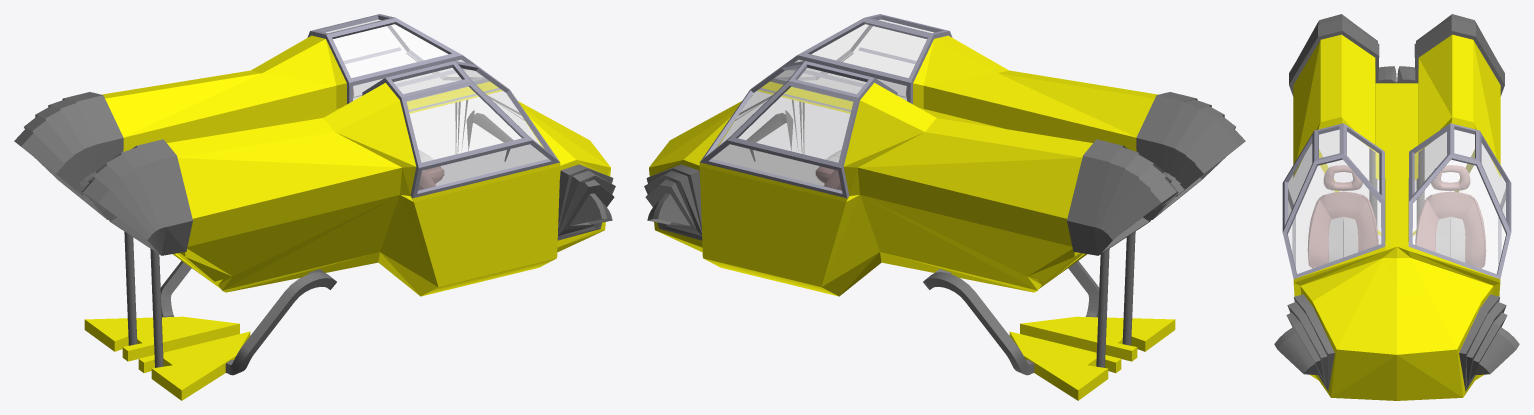
Rendered from Taxi.gltf.
3 views of the same model, side by side, from view 1: azimuth 30°, elevation 25°; view 2: azimuth 150°, elevation 25°; view 3: azimuth 270°, elevation 25° (orthographic). The views are drawn at different scales.
Visible parts, largest first — view 1: Box05, Shape01, Line01, Line03; view 2: Box05, Shape01, Line01, Line03; view 3: Box05, MERActRl03, MERActRl02, MERAwoRl03, MERAwoRl02, Line03.
Boxes of the visible parts, x1=… form: Box05: x1=14, y1=14, x2=615, y2=296; Shape01: x1=84, y1=316, x2=250, y2=400; Line01: x1=160, y1=261, x2=336, y2=375; Line03: x1=124, y1=231, x2=163, y2=367; Box05: x1=644, y1=14, x2=1245, y2=296; Shape01: x1=1009, y1=316, x2=1175, y2=400; Line01: x1=923, y1=261, x2=1099, y2=375; Line03: x1=1096, y1=231, x2=1135, y2=367; Box05: x1=1274, y1=14, x2=1519, y2=400; MERActRl03: x1=1307, y1=165, x2=1378, y2=268; MERActRl02: x1=1415, y1=165, x2=1486, y2=268; MERAwoRl03: x1=1328, y1=217, x2=1357, y2=262; MERAwoRl02: x1=1436, y1=217, x2=1465, y2=262; Line03: x1=1369, y1=148, x2=1424, y2=226.
Bounding box in the file's own units: 416 × 189 × 181.
